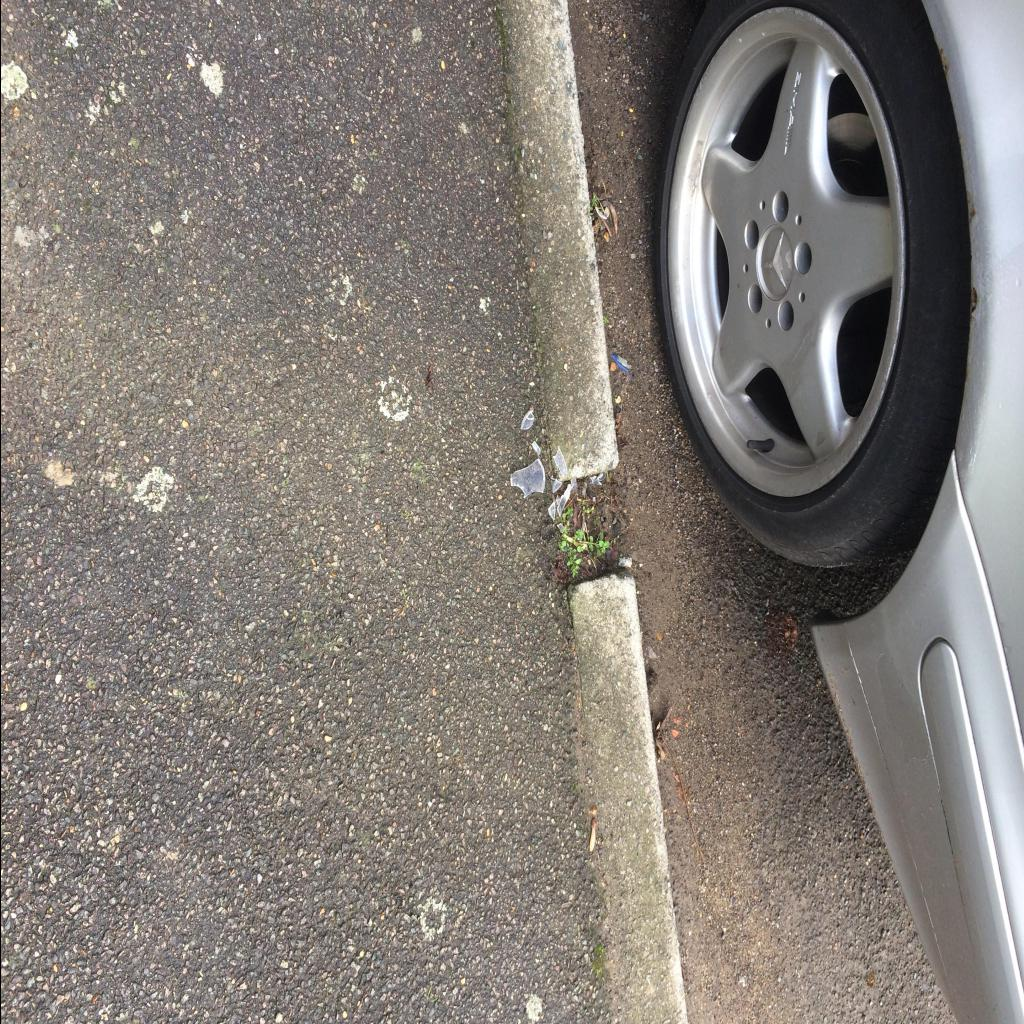Other plastic wrapper: (509, 458, 544, 498)
Unlabeled litter: (555, 484, 573, 517), (552, 446, 566, 478), (520, 410, 534, 430), (551, 477, 561, 493), (530, 440, 540, 455), (546, 502, 554, 520)
